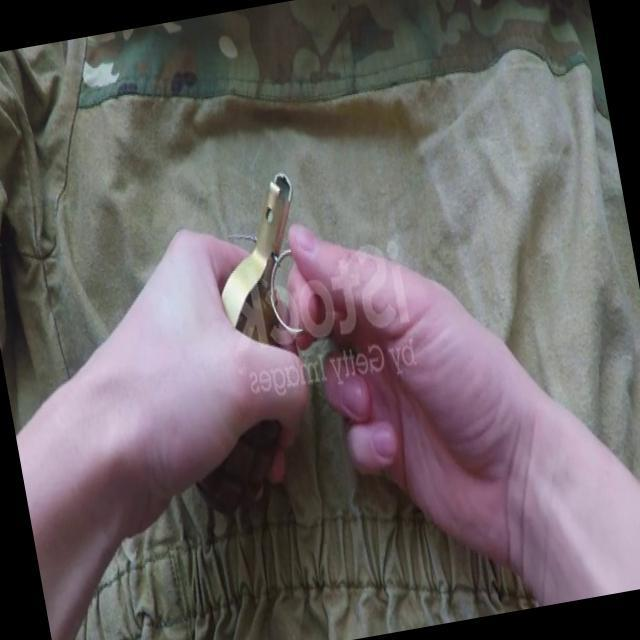grenade: (148, 172, 340, 516)
